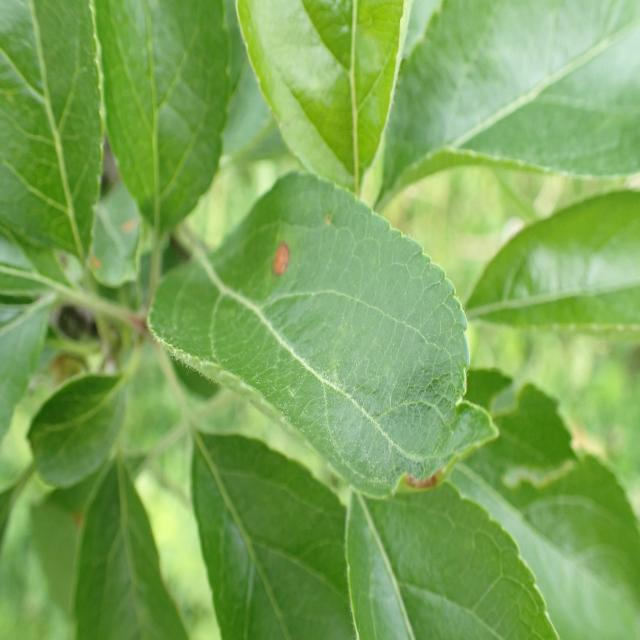Black Rot: (251, 217, 303, 319)
